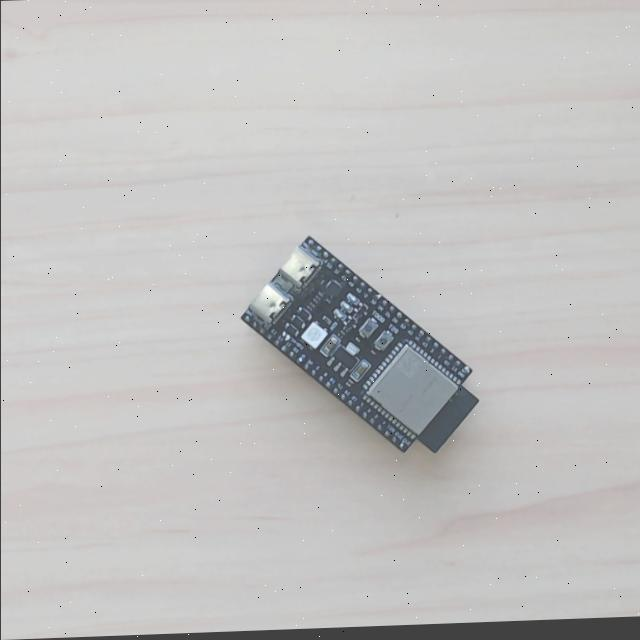ESP32S3-Devkit: (238, 232, 491, 469)
